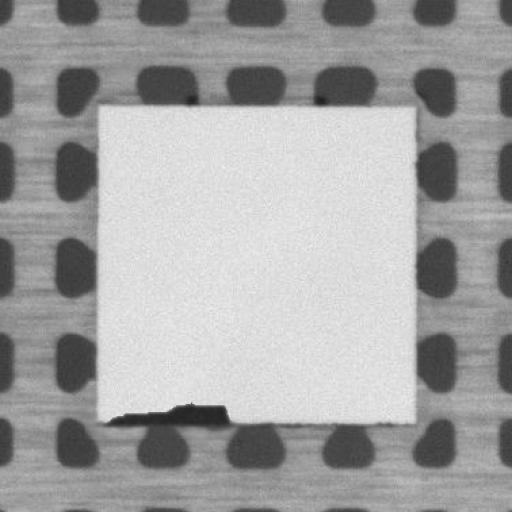DIE_BROKEN: (100, 398, 234, 427)
